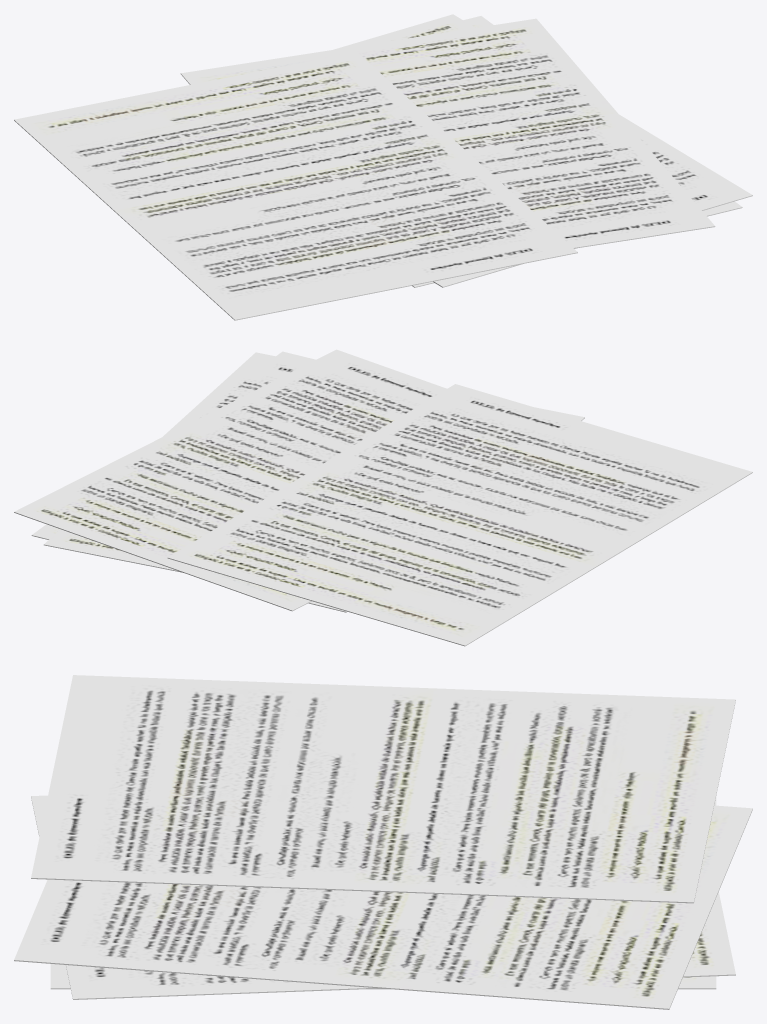
Rendered from paper2.FBX.
3 renders of one model, top to bottom at view 1: azimuth 30°, elevation 25°; view 2: azimuth 150°, elevation 25°; view 3: azimuth 270°, elevation 25°, orthographic. The views are drawn at different scales.
Visible parts, largest first — view 1: paper 2; view 2: paper 2; view 3: paper 2.
Part boxes in pixels (left/top/right/bottom): paper 2: left=14, top=14, right=752, bottom=320; paper 2: left=14, top=349, right=752, bottom=646; paper 2: left=14, top=675, right=752, bottom=1009.
Bounding box in the file's own units: 34.32 × 0.2087 × 32.21.
1 material, 1 textured.
